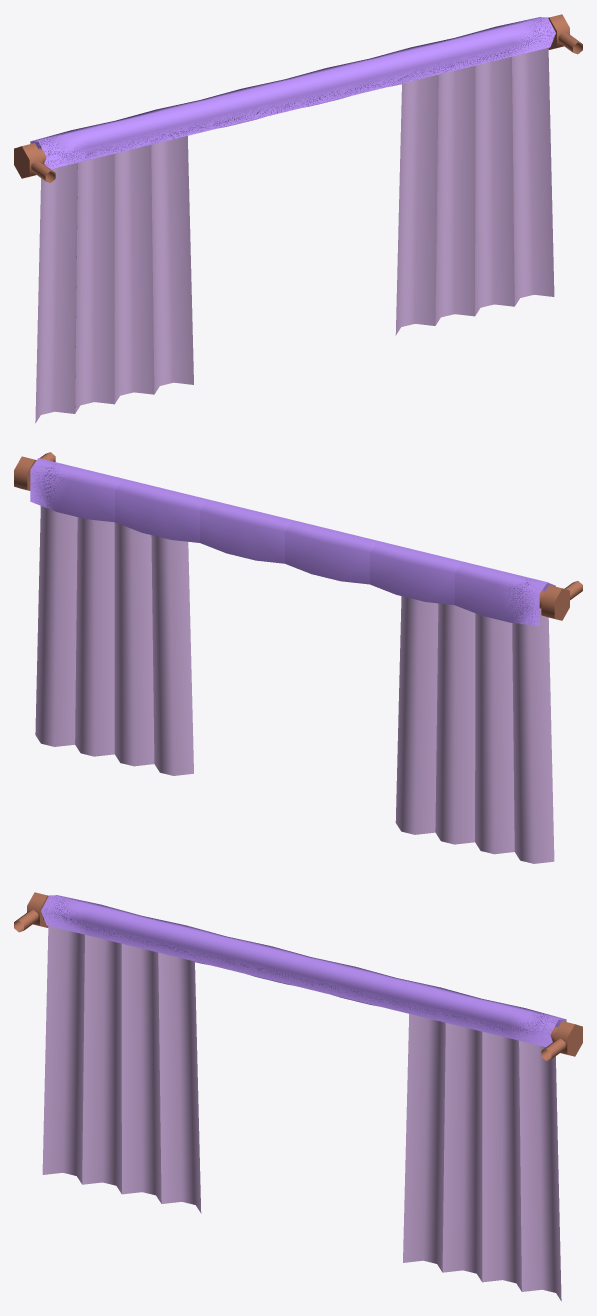
The model's file is CurtainA1_geo.fbx.
3 views of the same model, one above another, from view 1: azimuth 30°, elevation 25°; view 2: azimuth 150°, elevation 25°; view 3: azimuth 330°, elevation 25° (orthographic).
Visible parts, largest first — view 1: CurtainA1_geo; view 2: CurtainA1_geo; view 3: CurtainA1_geo.
Part boxes in pixels (box(x1,y1,x2,y2)): CurtainA1_geo: box(14, 14, 582, 423); CurtainA1_geo: box(14, 452, 582, 863); CurtainA1_geo: box(14, 892, 582, 1301).
Size of the model in its own units: 3.31 by 0.3245 by 1.64.
